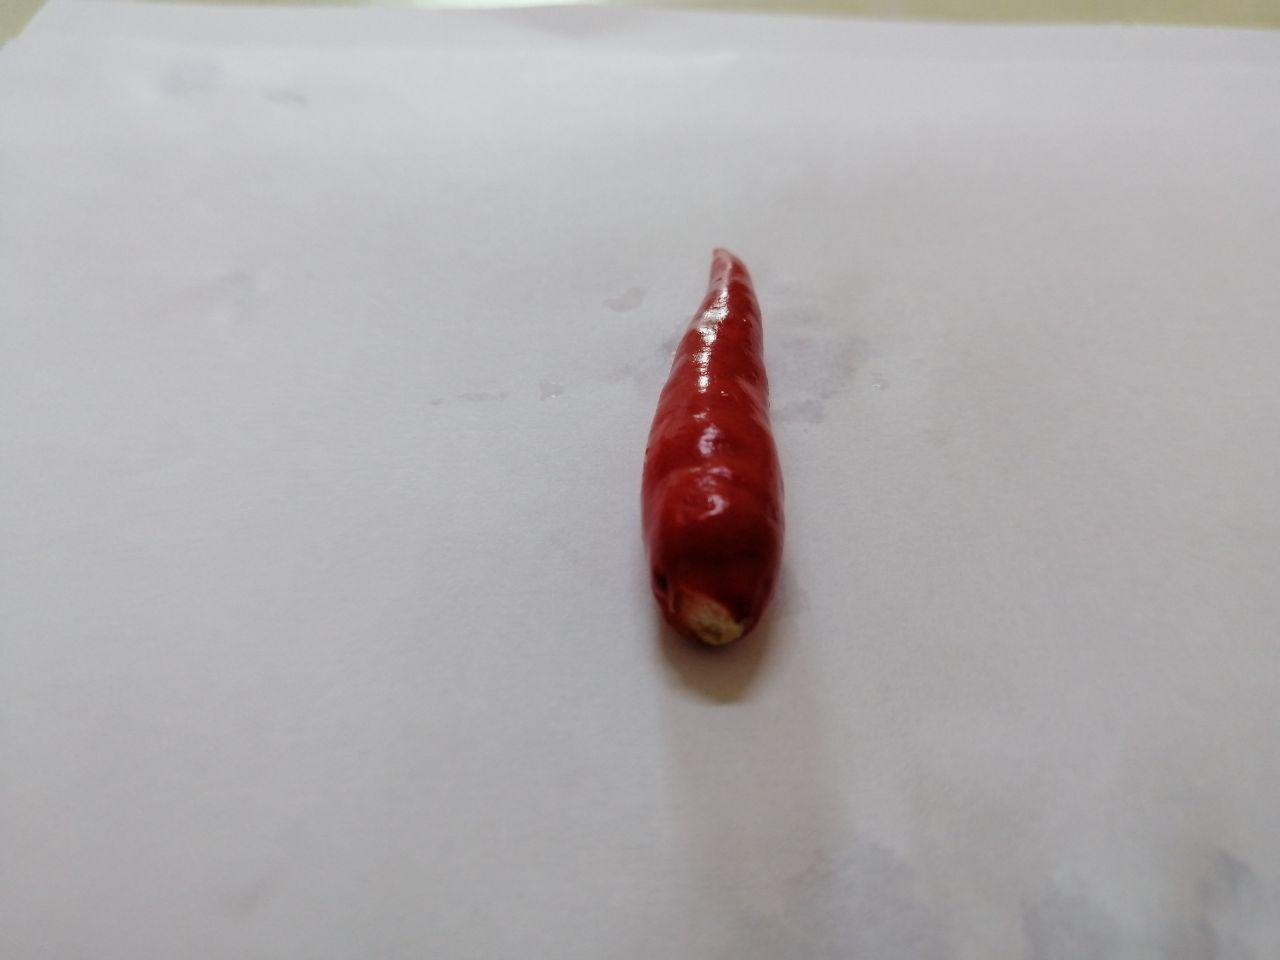lada merah: (625, 230, 794, 664)
